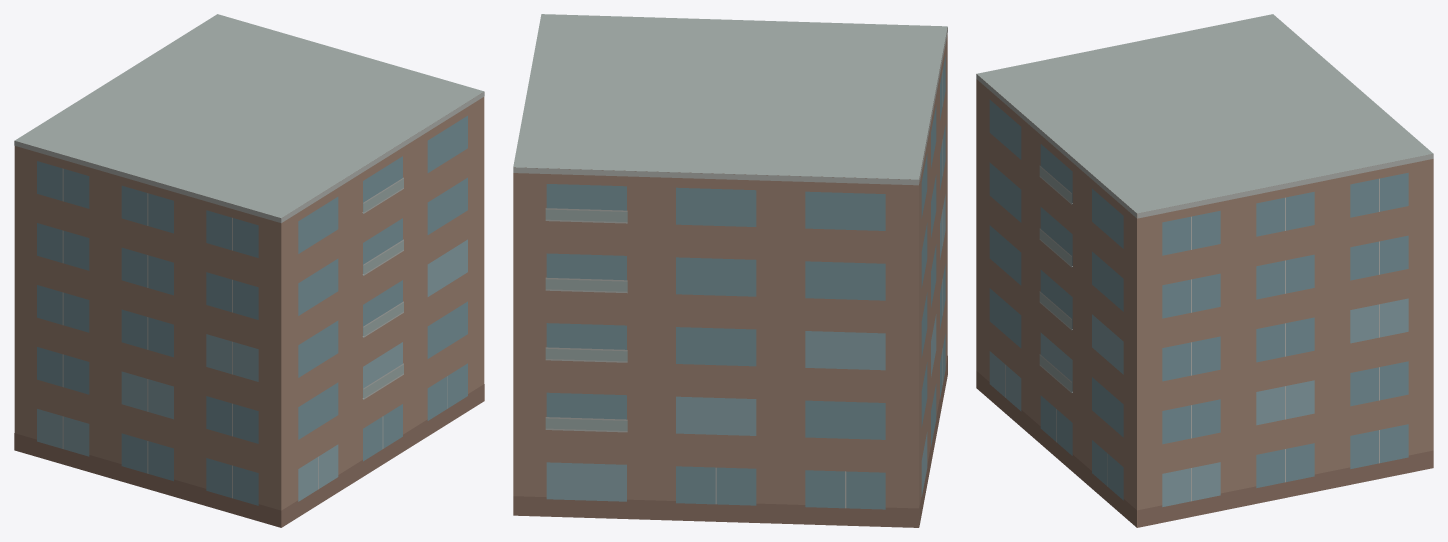
The model's file is survey-upis-32707369.glb.
The picture shows the model from 3 angles, left to right: view 1: azimuth 30°, elevation 25°; view 2: azimuth 150°, elevation 25°; view 3: azimuth 270°, elevation 25°; orthographic projection. The views are drawn at different scales.
Parts seen in each view (by area): view 1: survey-upis-32707369.tmp; view 2: survey-upis-32707369.tmp; view 3: survey-upis-32707369.tmp.
Part boxes in pixels (x1,y1,x2,y2): survey-upis-32707369.tmp: (14,14,484,527); survey-upis-32707369.tmp: (513,14,947,527); survey-upis-32707369.tmp: (976,14,1433,527).
Bounding box in the file's own units: 20.57 × 15.1 × 19.91.
